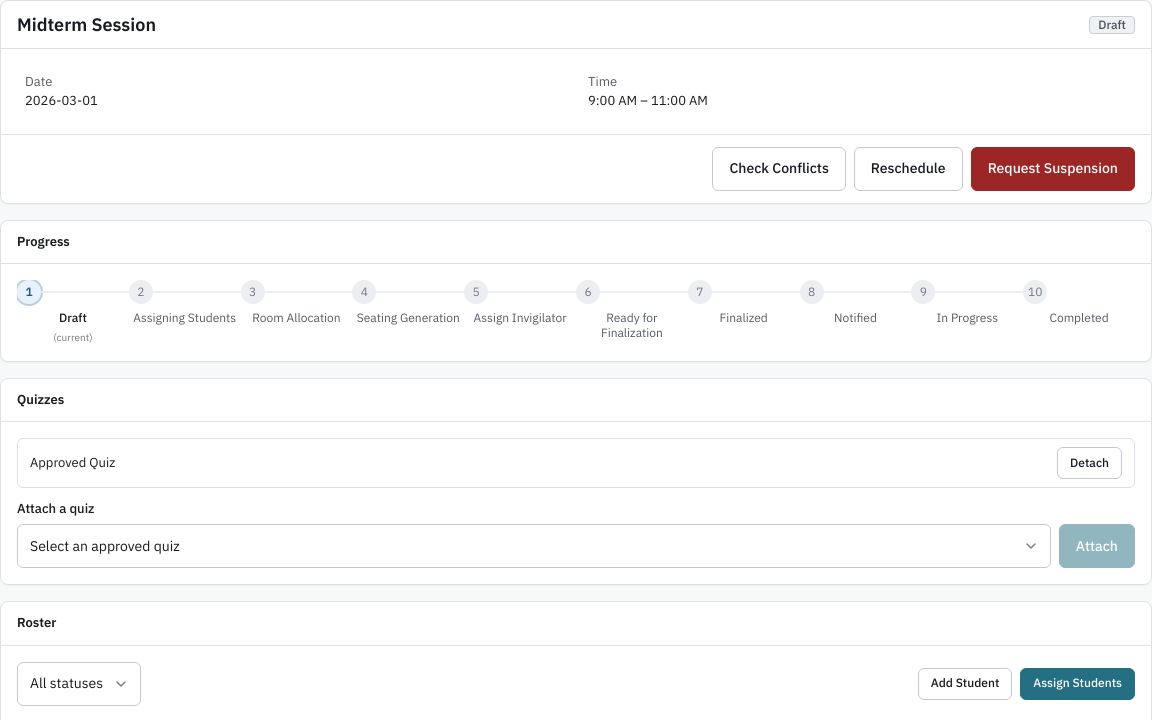
Test: Roster › assign students shows a result summary
Expected: the heading "Midterm Session" is shown, [17,13,156,36]
Click the button "Assign Students".
click(1078, 684)  # box [1020,668,1135,700]
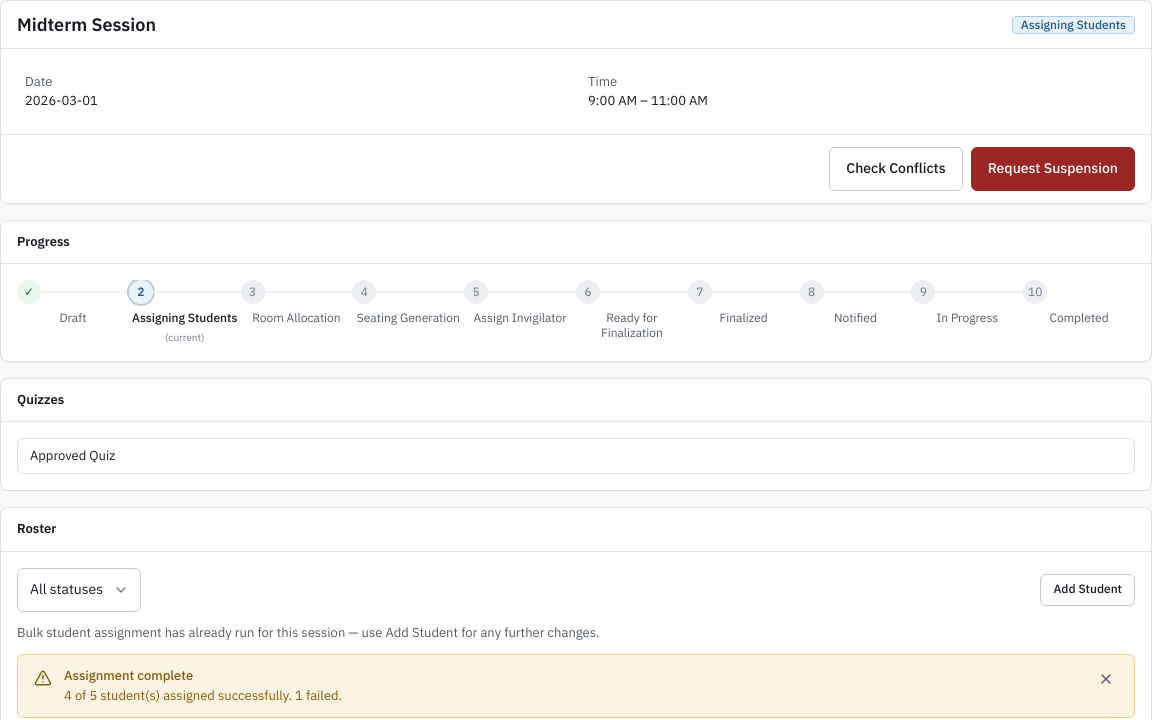
Now the text "4 of 5 student(s) assigned successfully. 1 failed." is shown, box [64,687,342,704]
